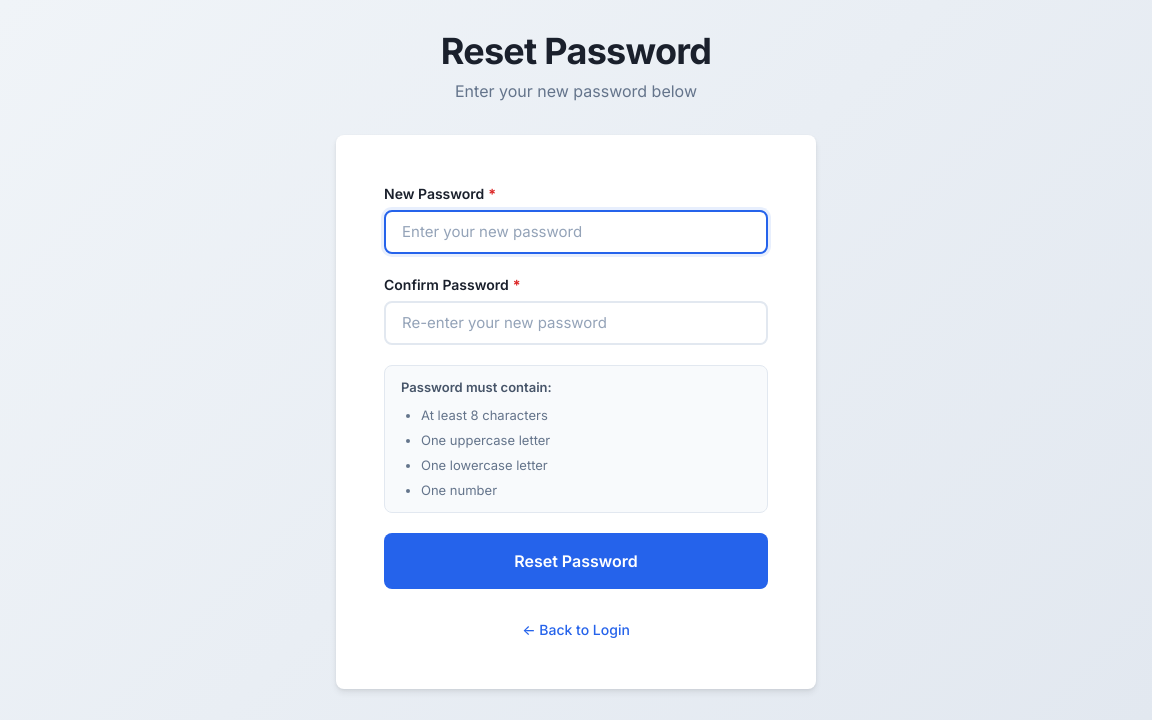
Test: ResetPasswordPage Component › Form Validation › shows error when password missing lowercase
The image size is (1152, 720).
In the password field labelled "New Password*": {"x": 576, "y": 232} [384, 210, 768, 254], type "PASSWORD123"
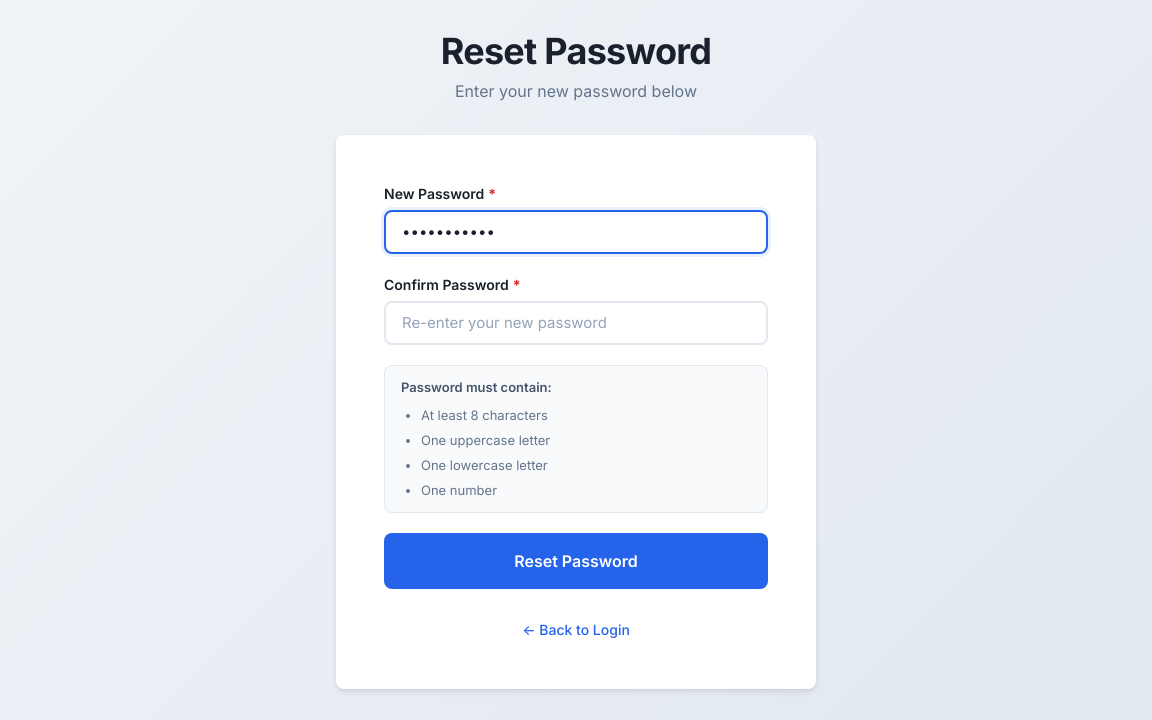
Click the button "Reset Password": {"x": 576, "y": 561} [384, 533, 768, 589]
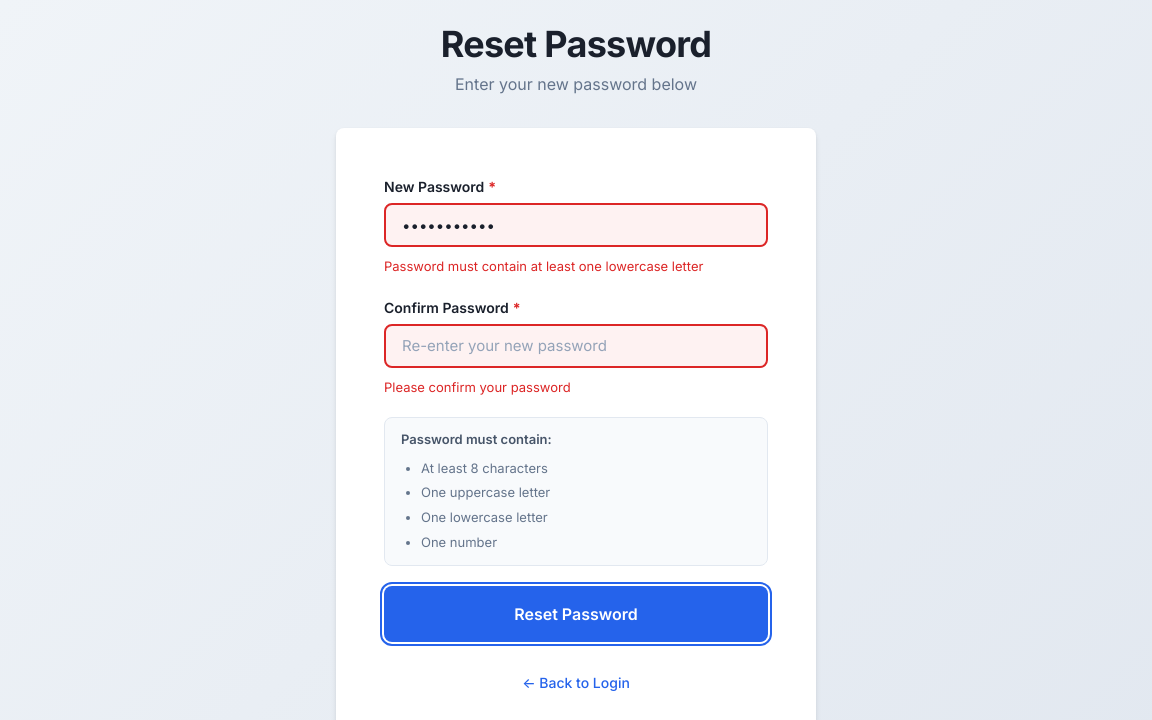
Expected: the text "Password must contain at least one lowercase letter" is shown, [384, 258, 703, 274]
